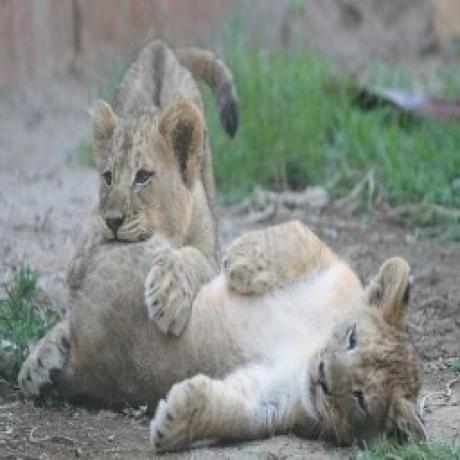Lion: (15, 218, 441, 454), (89, 36, 244, 241)
